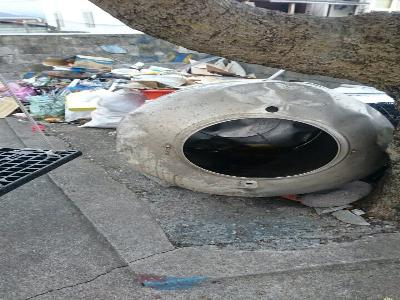water_tower: (114, 78, 396, 199)
